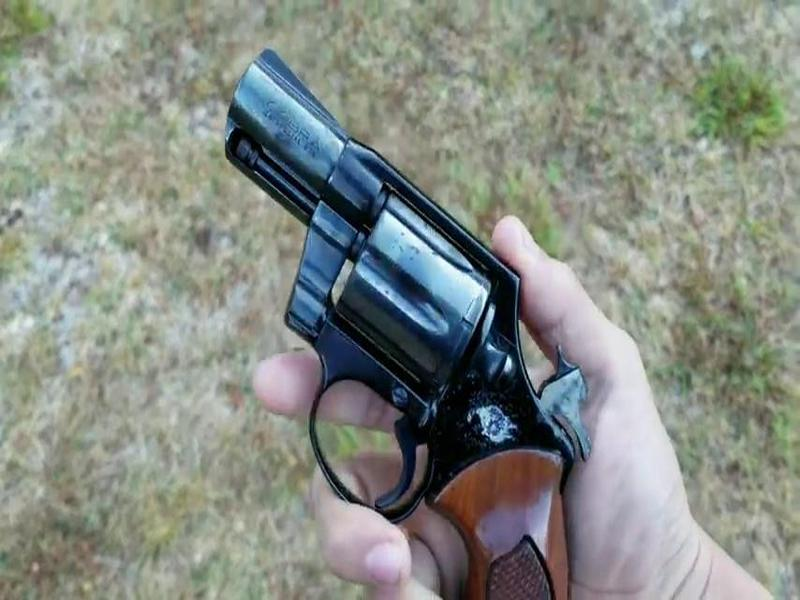Revolver: (219, 50, 598, 596)
